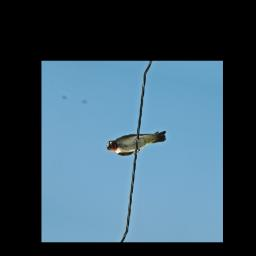Swallow: (103, 118, 170, 164)
